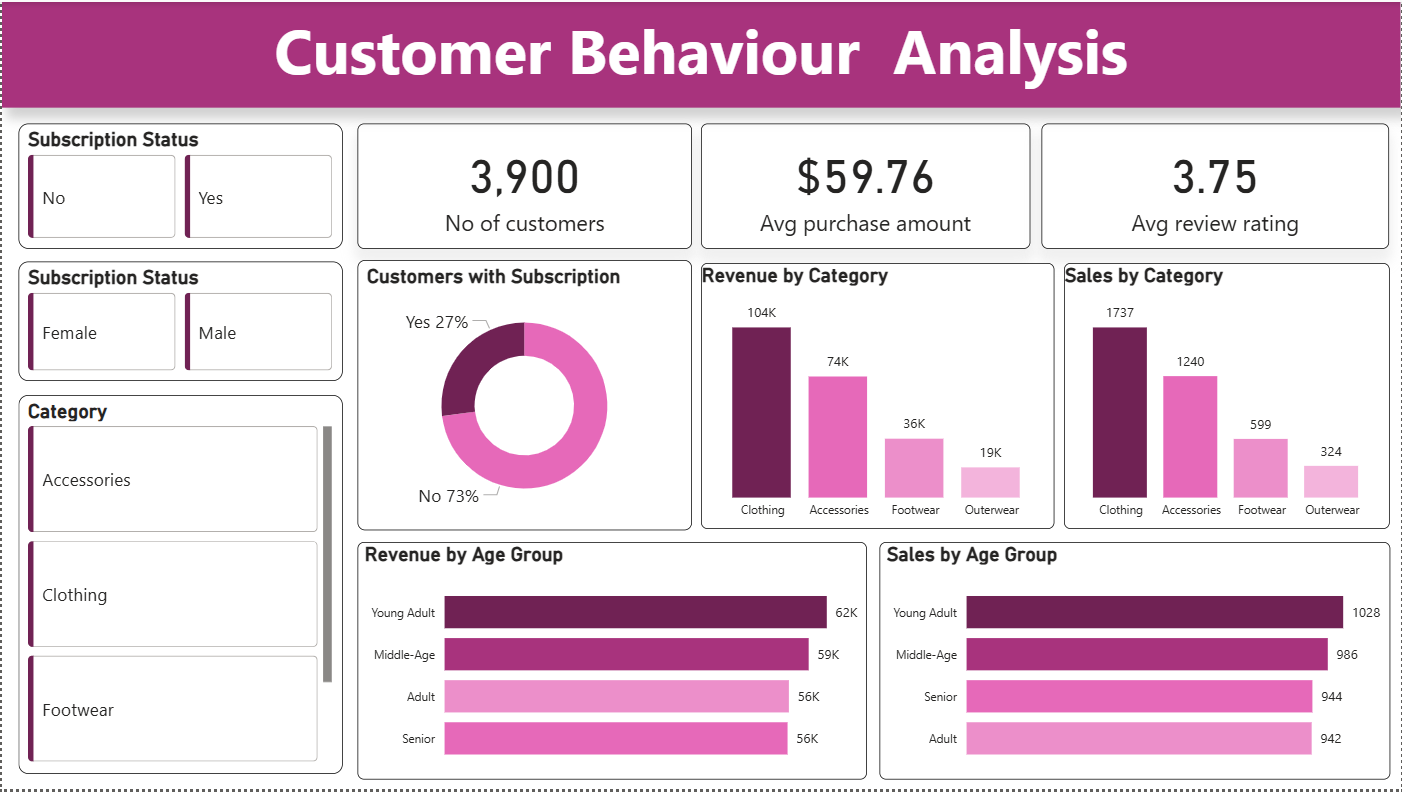

The dashboard page shown, as its layout file describes it:
{"tool":"powerbi","page":{"name":"Page 1","canvas":[1280,720],"ordinal":0},"visuals":[{"type":"card","fields":{"Values":["clean_sales2.Avg purchase amount"]},"box":[639.7,111,301,114.4],"z":0},{"type":"card","fields":{"Values":["clean_sales2.Avg review rating"]},"box":[951.3,111,318.2,114.4],"z":1000},{"type":"card","fields":{"Values":["clean_sales2.No of customers"]},"box":[324.8,111,306,114.4],"z":2000},{"type":"textbox","box":[0,0,1279.4,96.4],"z":3000},{"type":"donutChart","title":"Customers with Subscription","fields":{"Category":["clean_sales2.subscription_status"],"Y":["CountNonNull(clean_sales2.customer_id)"]},"box":[324.8,236.4,306,247],"z":4000},{"type":"columnChart","title":"        Revenue by Category","fields":{"Y":["Sum(clean_sales2.purchase_amount)"],"Category":["clean_sales2.category"]},"box":[639.7,238.1,323.2,243.6],"z":5000},{"type":"columnChart","title":"Sales by Category","fields":{"Category":["clean_sales2.category"],"Y":["CountNonNull(clean_sales2.customer_id)"]},"box":[971.2,238.1,298.3,243.6],"z":6000},{"type":"advancedSlicerVisual","title":"Subscription Status","fields":{"Values":["clean_sales2.subscription_status"]},"box":[14.9,111,296.7,114.4],"z":7000},{"type":"advancedSlicerVisual","title":"Subscription Status","fields":{"Values":["clean_sales2.gender"]},"box":[14.9,237,296.7,109.4],"z":7001},{"type":"advancedSlicerVisual","title":"Category","fields":{"Values":["clean_sales2.category"]},"box":[14.9,359.6,296.7,346.4],"z":7002},{"type":"clusteredBarChart","title":"Revenue by Age Group","fields":{"Category":["clean_sales2.age_group"],"Y":["Sum(clean_sales2.purchase_amount)"]},"box":[324.8,493.9,465.7,217.1],"z":7003},{"type":"clusteredBarChart","title":"Sales by Age Group ","fields":{"Category":["clean_sales2.age_group"],"Y":["CountNonNull(clean_sales2.purchase_amount)"]},"box":[802.1,493.9,467.4,217.1],"z":7004}]}

Visuals, with their boxes in screenshot pixels (x1, y1, x2, y2), scaled from the page's 1280x720 canvas onto the 1402x792 screenshot:
card - clean_sales2.Avg purchase amount: BBox(701, 122, 1030, 248)
card - clean_sales2.Avg review rating: BBox(1042, 122, 1390, 248)
card - clean_sales2.No of customers: BBox(356, 122, 691, 248)
textbox: BBox(0, 0, 1401, 106)
"Customers with Subscription" donutChart: BBox(356, 260, 691, 532)
"        Revenue by Category" columnChart: BBox(701, 262, 1055, 530)
"Sales by Category" columnChart: BBox(1064, 262, 1390, 530)
"Subscription Status" advancedSlicerVisual: BBox(16, 122, 341, 248)
"Subscription Status" advancedSlicerVisual: BBox(16, 261, 341, 381)
"Category" advancedSlicerVisual: BBox(16, 396, 341, 777)
"Revenue by Age Group" clusteredBarChart: BBox(356, 543, 866, 782)
"Sales by Age Group " clusteredBarChart: BBox(879, 543, 1390, 782)
